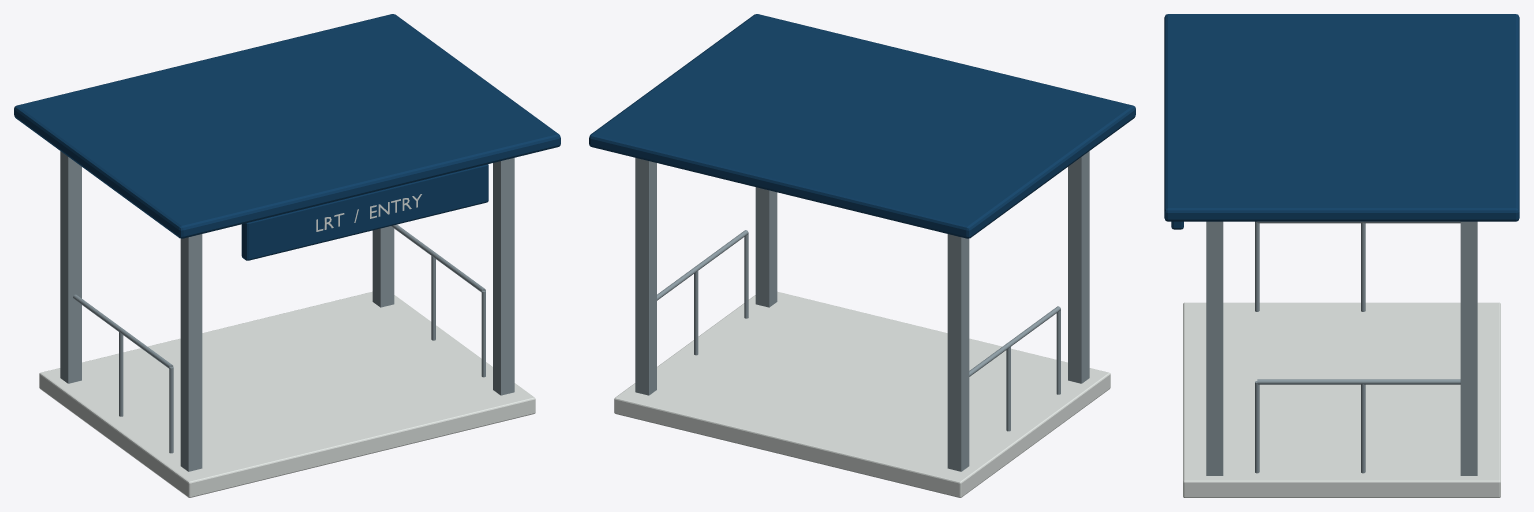
3 renders of one model, left to right at view 1: azimuth 30°, elevation 25°; view 2: azimuth 150°, elevation 25°; view 3: azimuth 270°, elevation 25°, orthographic. The views are drawn at different scales.
Parts seen in each view (by area): view 1: CANOPY_Roof, BASE_Landing, SIGN_Fascia, COLUMN.001, COLUMN.003, COLUMN.002, COLUMN, RAIL_Top, RAIL_Top.001; view 2: CANOPY_Roof, BASE_Landing, COLUMN.002, COLUMN, COLUMN.001, COLUMN.003, RAIL_Top, RAIL_Top.001; view 3: CANOPY_Roof, BASE_Landing, COLUMN, COLUMN.003, RAIL_Top.001, RAIL_Top, RAIL_Post.003, RAIL_Post, RAIL_Post.004, RAIL_Post.001.
Boxes of the visible parts, left/top/right/bottom form: CANOPY_Roof: left=14, top=14, right=560, bottom=238; BASE_Landing: left=39, top=291, right=535, bottom=497; SIGN_Fascia: left=241, top=164, right=488, bottom=260; COLUMN.001: left=180, top=234, right=202, bottom=471; COLUMN.003: left=493, top=158, right=514, bottom=395; COLUMN.002: left=60, top=151, right=81, bottom=383; COLUMN: left=372, top=226, right=394, bottom=307; RAIL_Top: left=73, top=294, right=173, bottom=368; RAIL_Top.001: left=391, top=224, right=485, bottom=292; CANOPY_Roof: left=589, top=14, right=1135, bottom=238; BASE_Landing: left=614, top=291, right=1110, bottom=497; COLUMN.002: left=947, top=234, right=969, bottom=471; COLUMN: left=635, top=158, right=656, bottom=395; COLUMN.001: left=1068, top=151, right=1089, bottom=383; COLUMN.003: left=755, top=187, right=777, bottom=307; RAIL_Top: left=969, top=306, right=1060, bottom=376; RAIL_Top.001: left=657, top=230, right=748, bottom=300; CANOPY_Roof: left=1164, top=14, right=1519, bottom=221; BASE_Landing: left=1183, top=302, right=1500, bottom=497; COLUMN: left=1460, top=221, right=1477, bottom=475; COLUMN.003: left=1206, top=221, right=1223, bottom=475; RAIL_Top.001: left=1257, top=379, right=1460, bottom=384; RAIL_Top: left=1257, top=221, right=1460, bottom=223; RAIL_Post.003: left=1255, top=381, right=1259, bottom=473; RAIL_Post: left=1255, top=221, right=1259, bottom=311; RAIL_Post.004: left=1361, top=384, right=1365, bottom=473; RAIL_Post.001: left=1361, top=223, right=1365, bottom=311.
Bounding box in the file's own units: 4.4 × 3.1 × 3.35.
